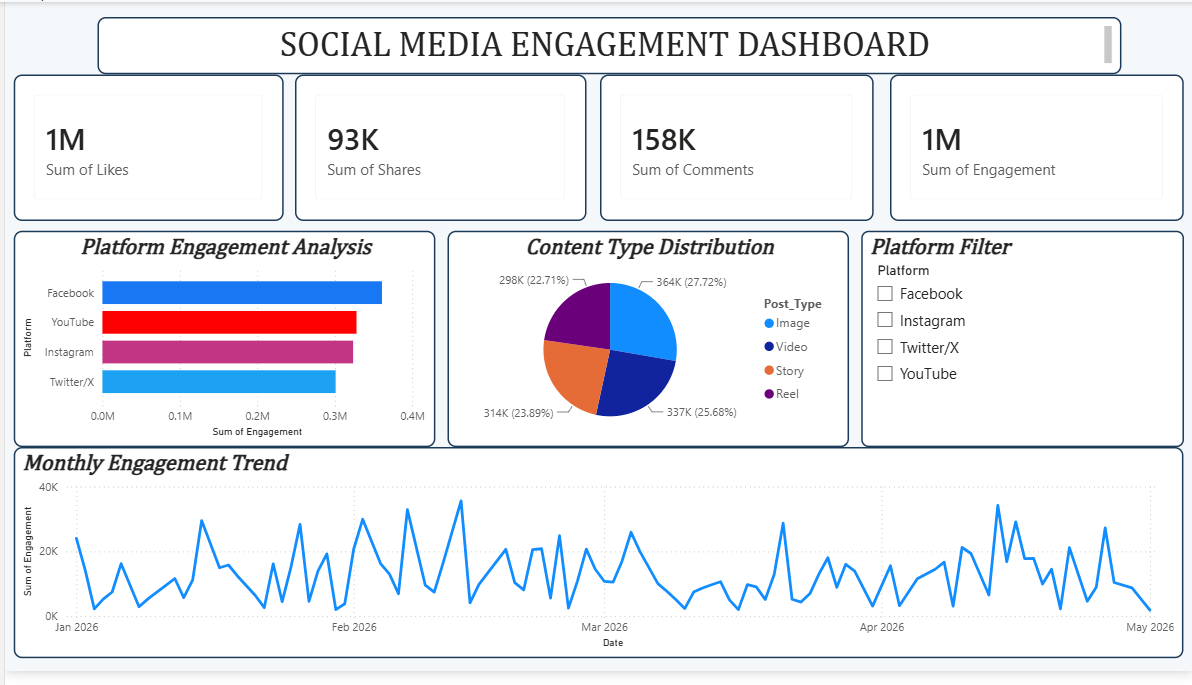

The page's visual inventory and layout, read from the dashboard file:
{"tool":"powerbi","page":{"name":"Page 1","canvas":[1280,720],"ordinal":0},"visuals":[{"type":"cardVisual","fields":{"Data":["Sum(Dataset.Likes)"]},"box":[9.4,78,290.5,157.3],"z":0},{"type":"cardVisual","fields":{"Data":["Sum(Dataset.Comments)"]},"box":[640.1,78,294.5,157.3],"z":1000},{"type":"cardVisual","fields":{"Data":["Sum(Dataset.Shares)"]},"box":[312,78,313.3,157.3],"z":2000},{"type":"cardVisual","fields":{"Data":["Sum(Dataset.Engagement)"]},"box":[952.1,78,316,157.3],"z":3000},{"type":"clusteredBarChart","title":"Platform Engagement Analysis","fields":{"Category":["Dataset.Platform"],"Y":["Sum(Dataset.Engagement)"]},"box":[9.4,246.1,453.2,232.7],"z":4000},{"type":"pieChart","title":"Content Type Distribution","fields":{"Category":["Dataset.Post_Type"],"Y":["Sum(Dataset.Engagement)"]},"box":[476.1,246.1,431.7,232.7],"z":5000},{"type":"lineChart","title":"Monthly Engagement Trend","fields":{"Y":["Sum(Dataset.Engagement)"],"Category":["Dataset.Date"]},"box":[9.4,478.8,1258.8,227.3],"z":6000},{"type":"slicer","title":"Platform Filter","fields":{"Values":["Dataset.Platform"]},"box":[921.2,246.1,347,232.7],"z":7000},{"type":"textbox","box":[99.5,16.1,1101.4,61.9],"z":8000}]}

Visuals, with their boxes in screenshot pixels (x1, y1, x2, y2), scaled from the page's 1280x720 canvas onto the 1192x685 screenshot:
cardVisual - Sum(Dataset.Likes): (9,74,279,224)
cardVisual - Sum(Dataset.Comments): (596,74,870,224)
cardVisual - Sum(Dataset.Shares): (291,74,582,224)
cardVisual - Sum(Dataset.Engagement): (887,74,1181,224)
"Platform Engagement Analysis" clusteredBarChart: (9,234,431,456)
"Content Type Distribution" pieChart: (443,234,845,456)
"Monthly Engagement Trend" lineChart: (9,456,1181,672)
"Platform Filter" slicer: (858,234,1181,456)
textbox: (93,15,1118,74)
